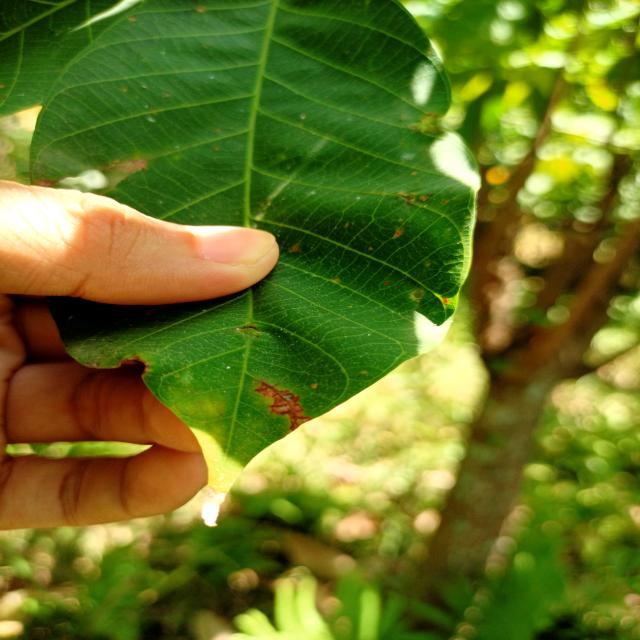Corynespora: (255, 379, 312, 431)
